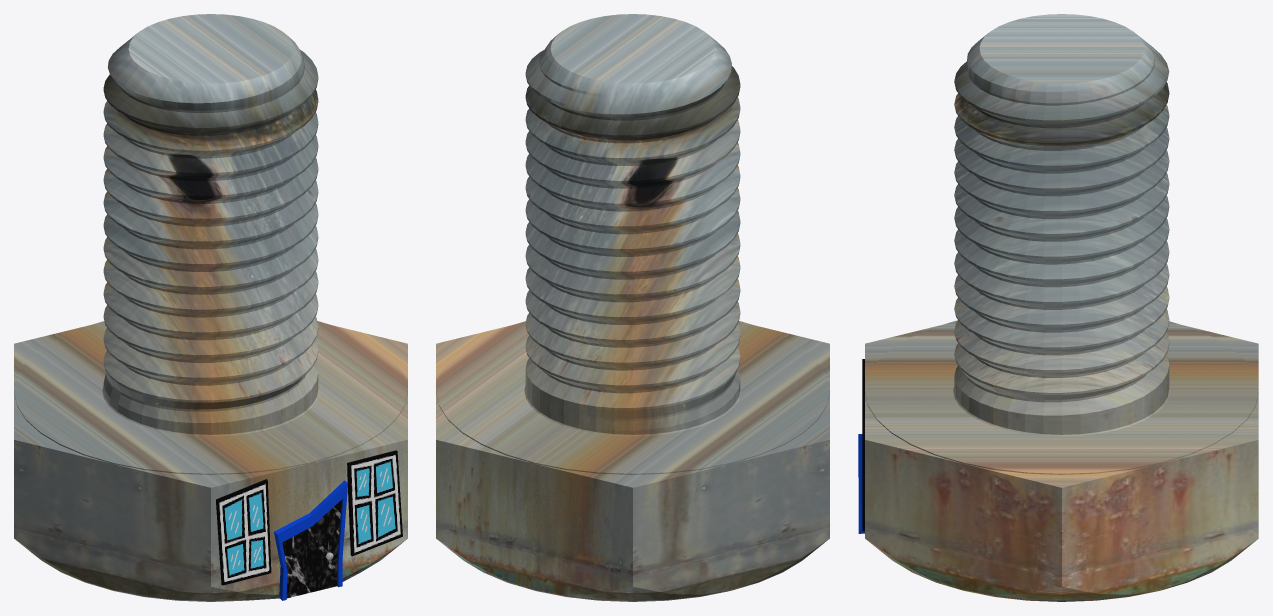
Rendered from House6.fbx.
The picture shows the model from 3 angles, left to right: view 1: azimuth 30°, elevation 25°; view 2: azimuth 150°, elevation 25°; view 3: azimuth 270°, elevation 25°; orthographic projection.
Parts seen in each view (by area): view 1: House 6, Plane.008; view 2: House 6; view 3: House 6.
Part boxes in pixels (x1,y1,x2,y2): House 6: (14, 14, 407, 601); Plane.008: (216, 450, 402, 585); House 6: (436, 14, 829, 601); House 6: (858, 14, 1258, 601).
Bounding box in the file's own units: 69.41 × 79.24 × 61.15.
